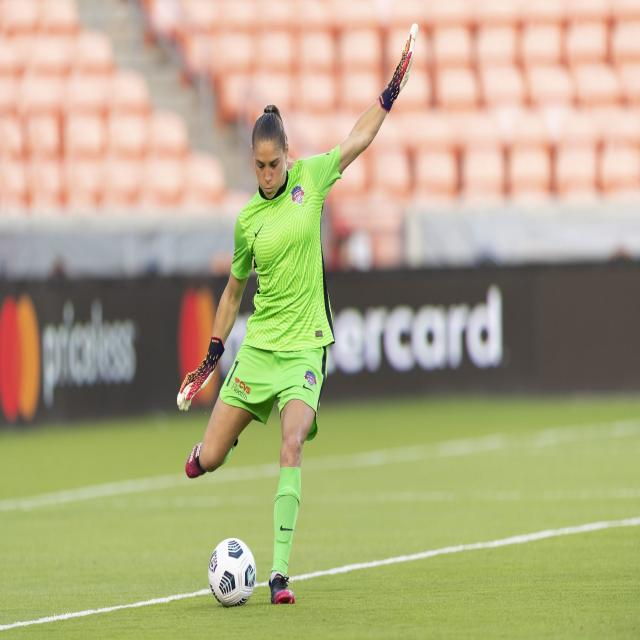shooting: (145, 19, 423, 616)
